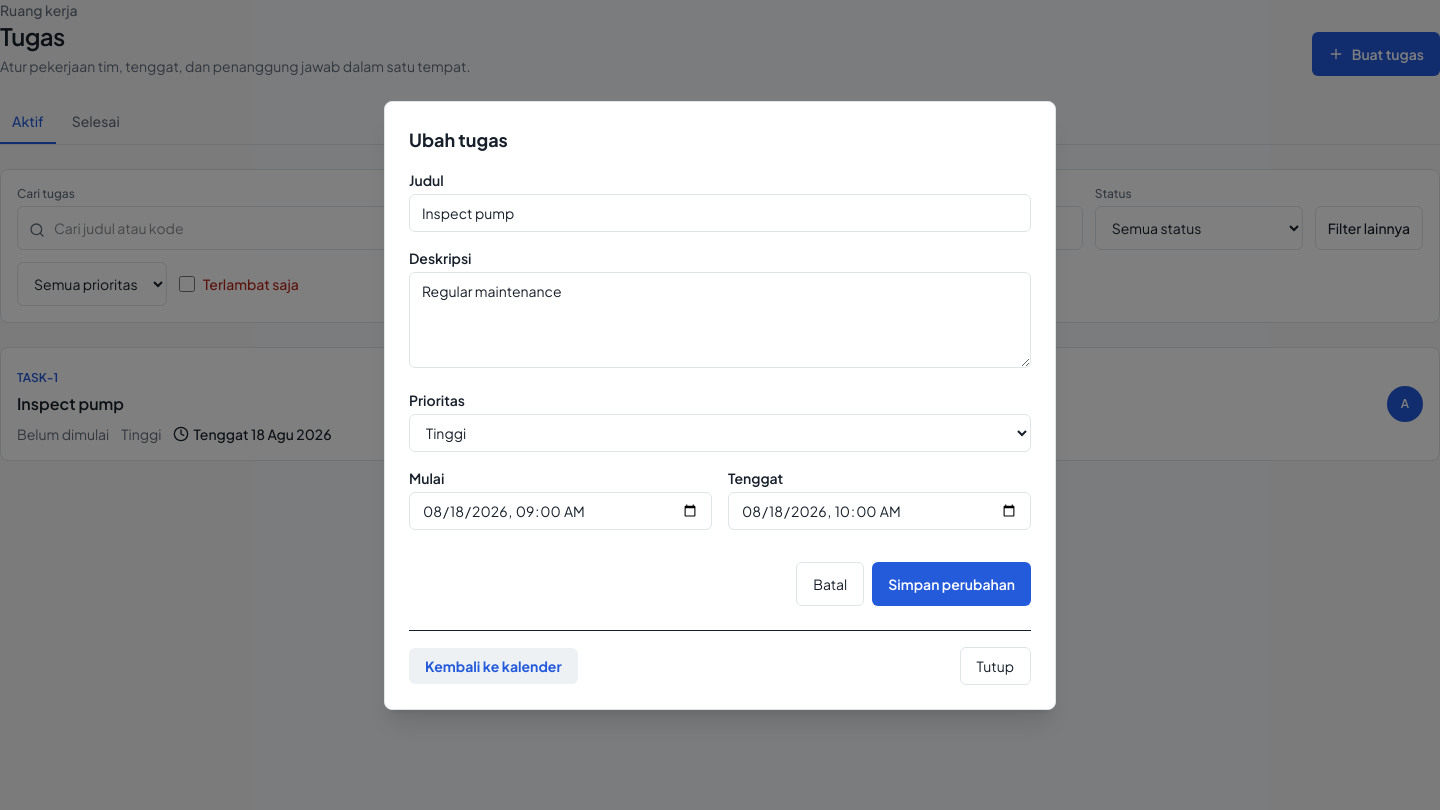
it: Task 8 Calendar reschedule flow › handles version conflict 409 when saving rescheduled task
Click the button "Simpan perubahan" at point(952, 584), box [872, 562, 1031, 606]
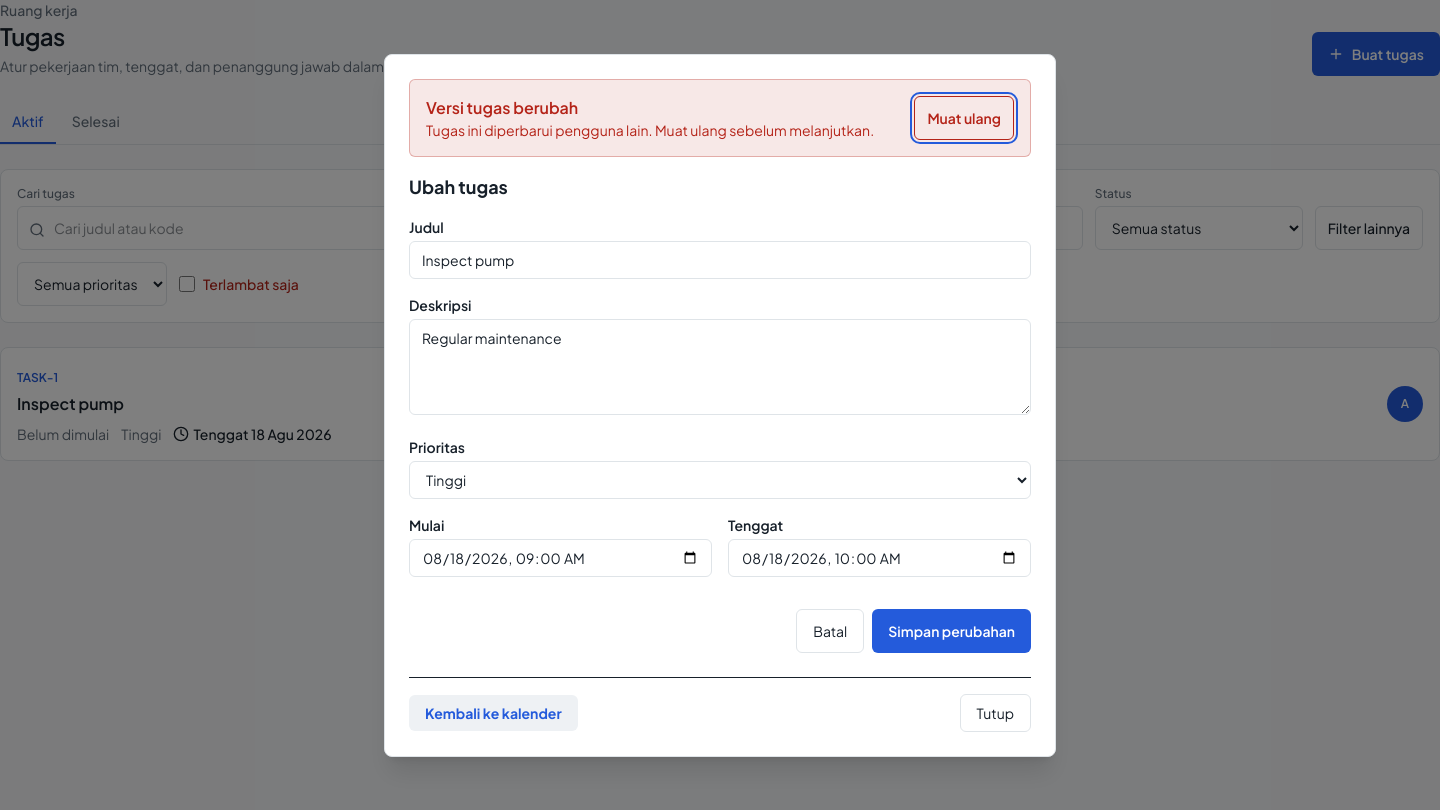
Expected: the text "Versi tugas berubah" is shown, [426, 96, 578, 118]
